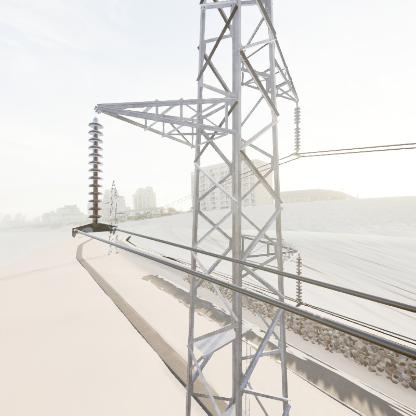insulator: (85, 118, 104, 231), (292, 106, 305, 160), (295, 255, 305, 312)
